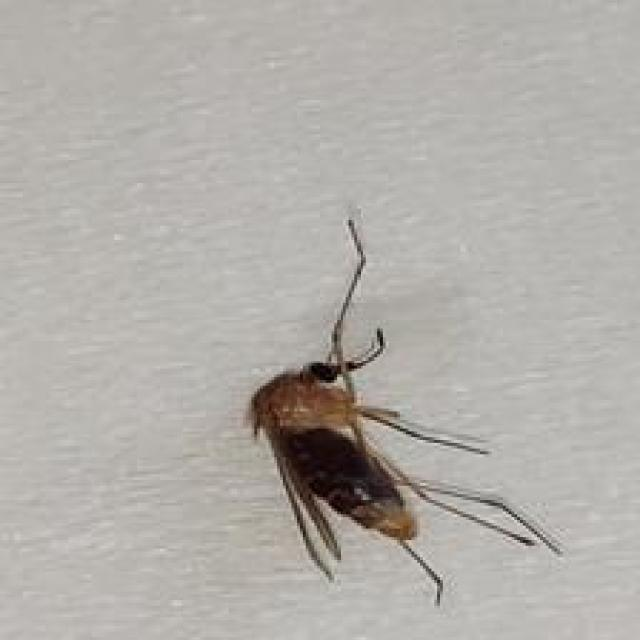Culex: (245, 216, 564, 607)
